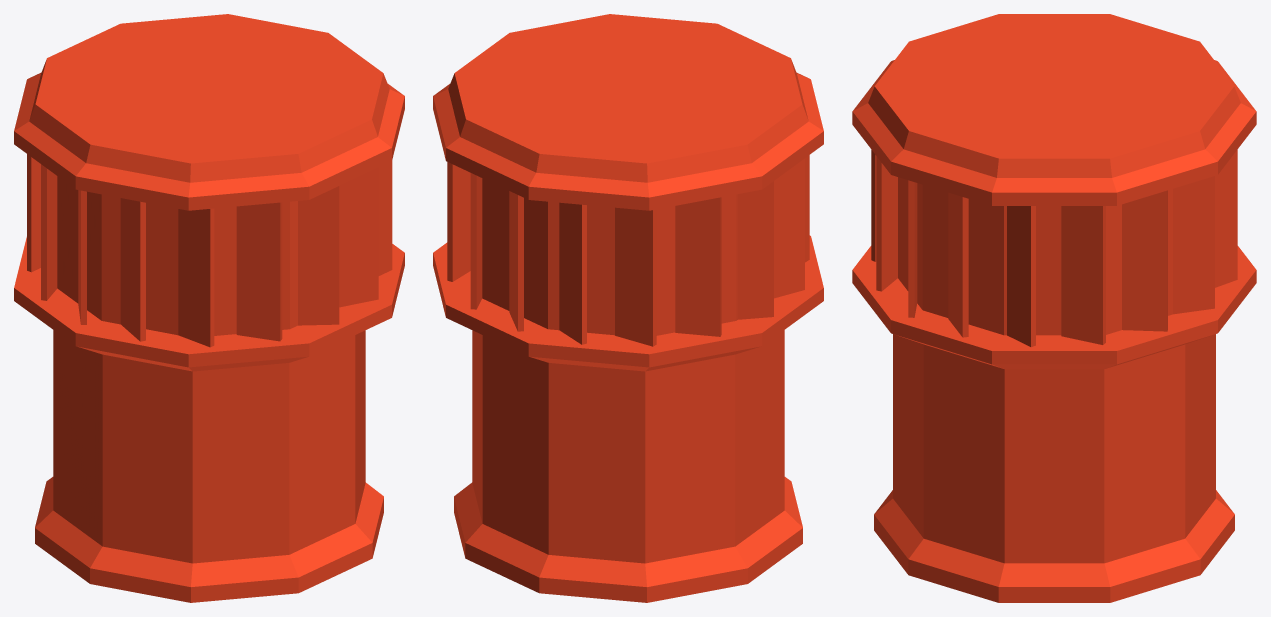
The model's file is SM_Chimney_A_City.fbx.
3 renders of one model, left to right at view 1: azimuth 30°, elevation 25°; view 2: azimuth 150°, elevation 25°; view 3: azimuth 270°, elevation 25°, orthographic.
Parts seen in each view (by area): view 1: SM_Chimney_A_City; view 2: SM_Chimney_A_City; view 3: SM_Chimney_A_City.
Part boxes in pixels (bbox=[...]): SM_Chimney_A_City: bbox=[14, 14, 404, 602]; SM_Chimney_A_City: bbox=[433, 14, 823, 602]; SM_Chimney_A_City: bbox=[852, 14, 1256, 602].
Bounding box in the file's own units: 0.3068 × 0.3913 × 0.3226.
